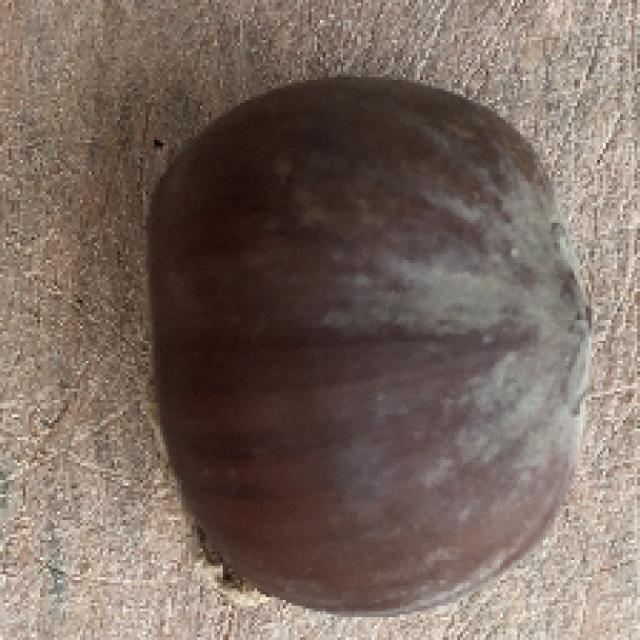qualityHazelnut: (136, 68, 600, 624)
